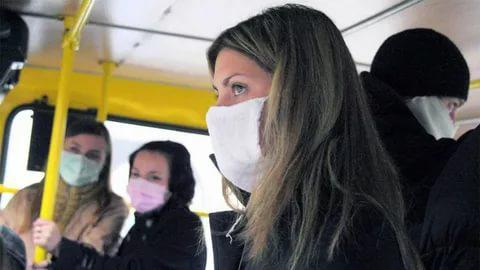mask: (200, 53, 275, 192), (406, 83, 463, 140), (125, 151, 170, 213), (60, 136, 105, 187)
